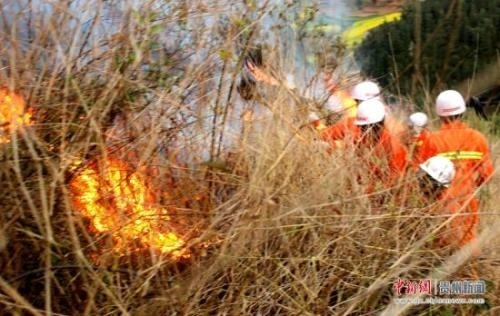fire: (73, 150, 194, 258)
